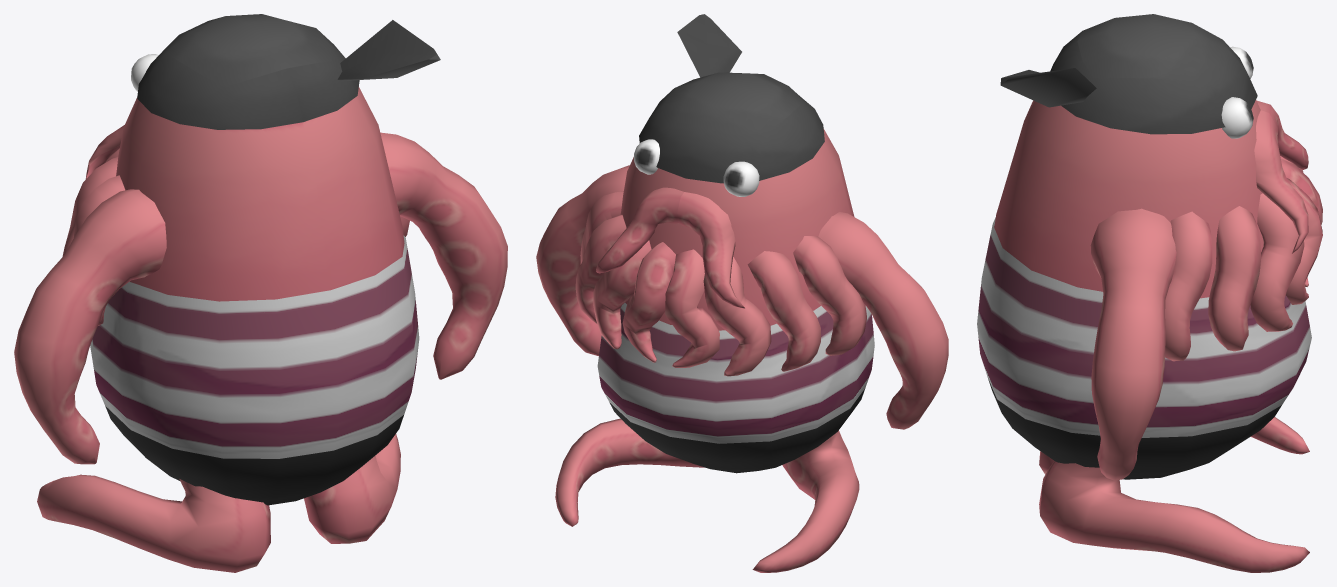
File: tako_idle_a_01.fbx
The picture shows the model from 3 angles, left to right: view 1: azimuth 30°, elevation 25°; view 2: azimuth 150°, elevation 25°; view 3: azimuth 270°, elevation 25°; orthographic projection. The views are drawn at different scales.
Parts seen in each view (by area): view 1: I_a_01; view 2: I_a_01; view 3: I_a_01.
Boxes of the visible parts, x1,y1,x2,y2 form: I_a_01: [14, 14, 507, 572]; I_a_01: [536, 14, 948, 572]; I_a_01: [977, 14, 1322, 572].
Size of the model in its own units: 1.59 by 1.6 by 1.02.
Materials: 1 (1 with a texture image).
